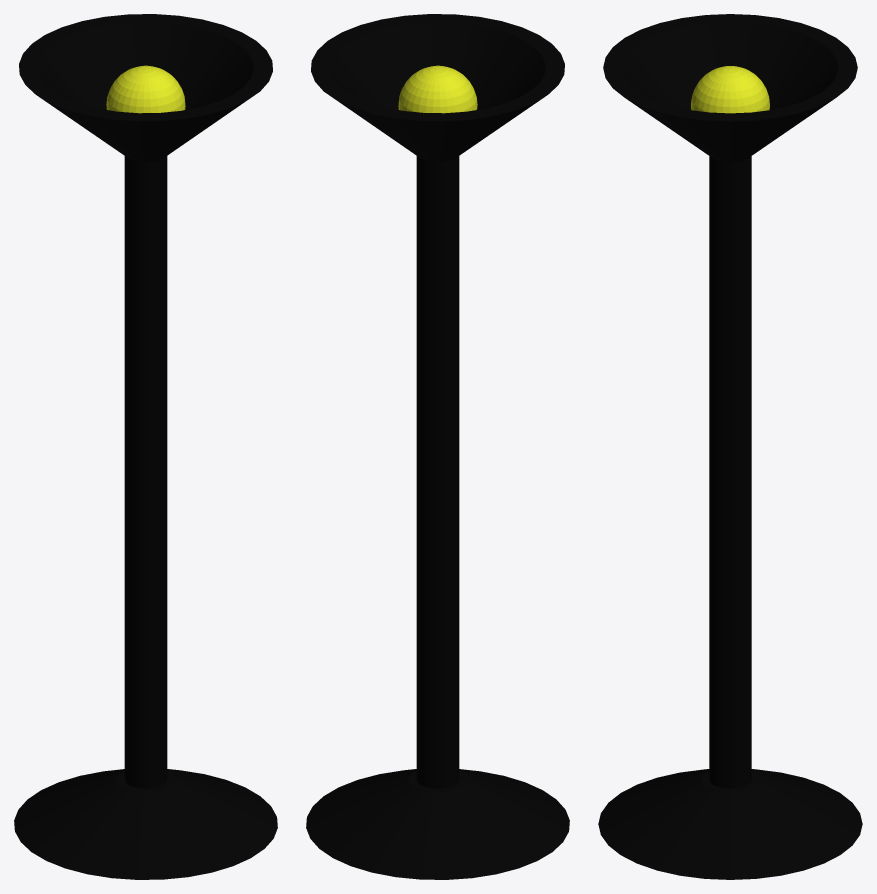
The model's file is lightstand.dae.
3 renders of one model, left to right at view 1: azimuth 30°, elevation 25°; view 2: azimuth 150°, elevation 25°; view 3: azimuth 270°, elevation 25°, orthographic.
Visible parts, largest first — view 1: Cylinder, Sphere; view 2: Cylinder, Sphere; view 3: Cylinder, Sphere.
Boxes of the visible parts, left/top/right/bottom form: Cylinder: left=14, top=14, right=277, bottom=879; Sphere: left=106, top=65, right=185, bottom=113; Cylinder: left=306, top=14, right=569, bottom=879; Sphere: left=398, top=65, right=477, bottom=113; Cylinder: left=598, top=14, right=862, bottom=879; Sphere: left=691, top=66, right=769, bottom=113.
Bounding box in the file's own units: 2 × 2 × 6.31.
